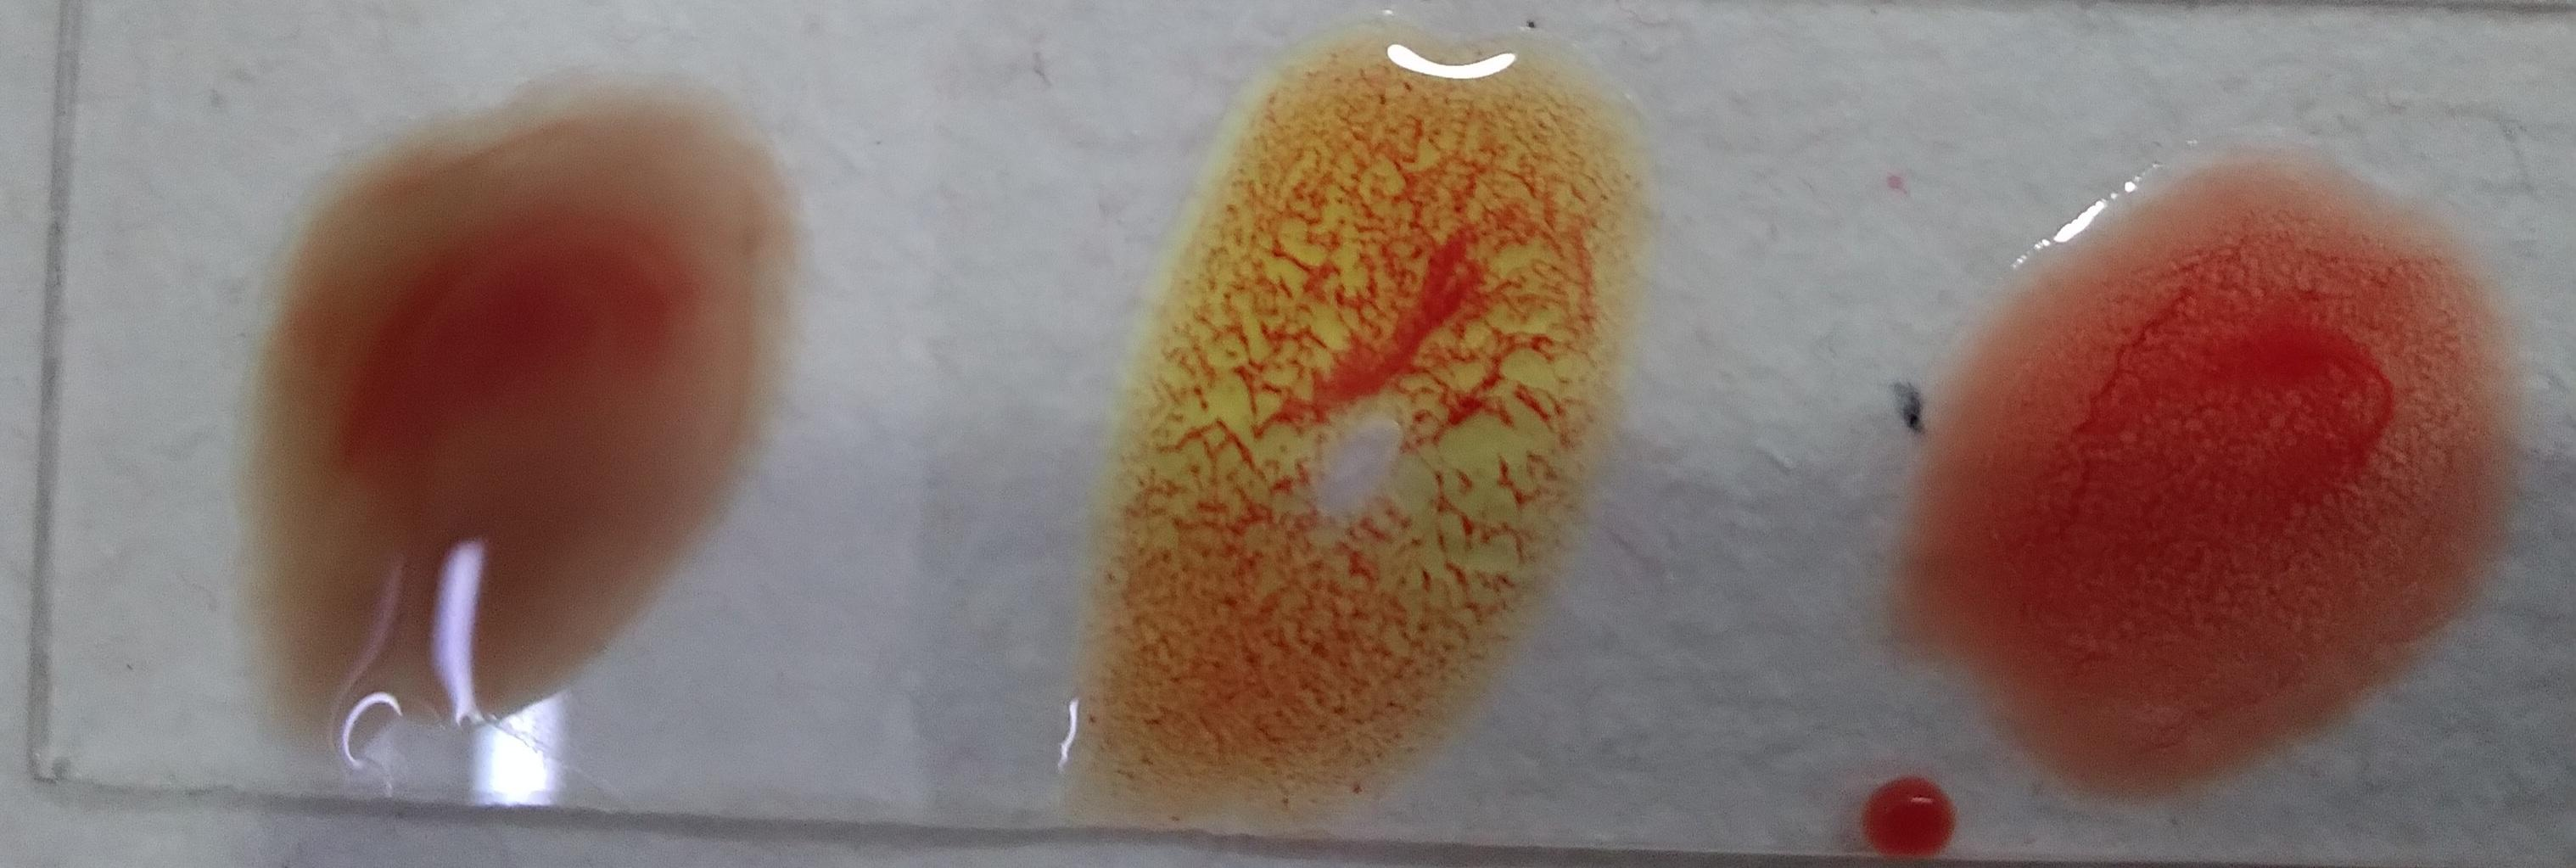B: (991, 51, 1438, 820)
D: (80, 89, 664, 732)
